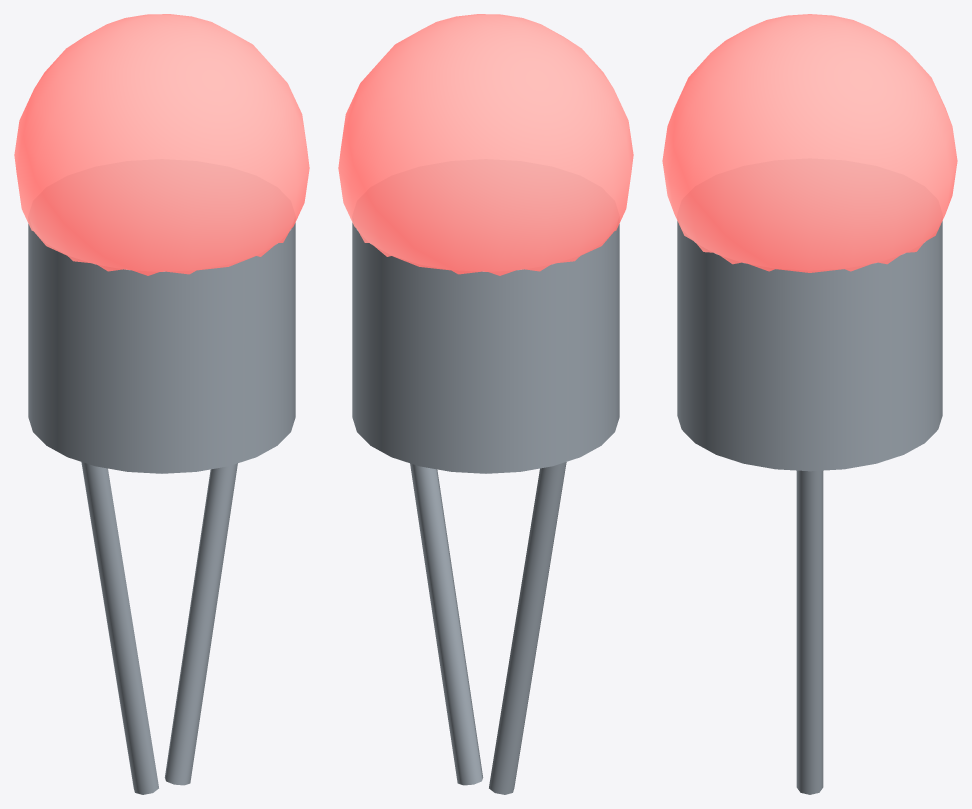
File: led.glb
3 views of the same model, side by side, from view 1: azimuth 30°, elevation 25°; view 2: azimuth 150°, elevation 25°; view 3: azimuth 270°, elevation 25° (orthographic).
Size of the model in its own units: 0.4 by 1.13 by 0.4.
